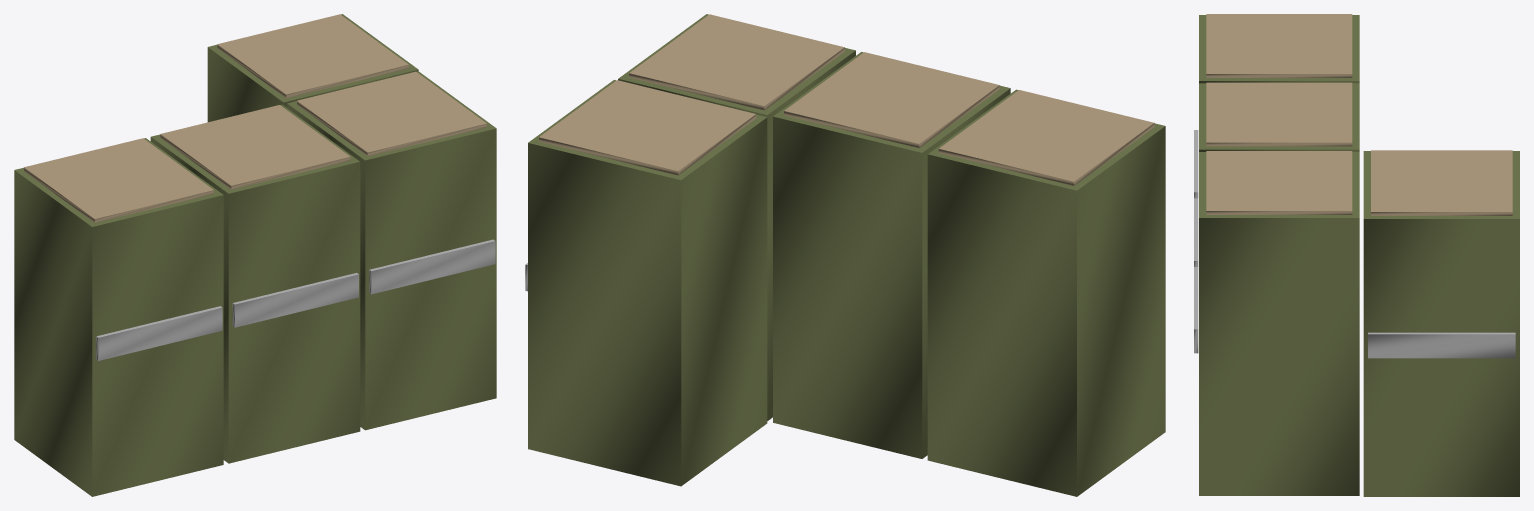
The model's file is SM_HescoRemateEspejo_v0_MallaLimpia_e0_Sano_LOD1.fbx.
The picture shows the model from 3 angles, left to right: view 1: azimuth 30°, elevation 25°; view 2: azimuth 150°, elevation 25°; view 3: azimuth 270°, elevation 25°; orthographic projection. The views are drawn at different scales.
Visible parts, largest first — view 1: SM_hesco_piezas_v20_LOD1; view 2: SM_hesco_piezas_v20_LOD1; view 3: SM_hesco_piezas_v20_LOD1.
Boxes of the visible parts, <box> form: SM_hesco_piezas_v20_LOD1: <box>14,14,496,496</box>; SM_hesco_piezas_v20_LOD1: <box>525,14,1165,496</box>; SM_hesco_piezas_v20_LOD1: <box>1194,14,1519,496</box>.
Size of the model in its own units: 3.34 by 2.13 by 2.23.
